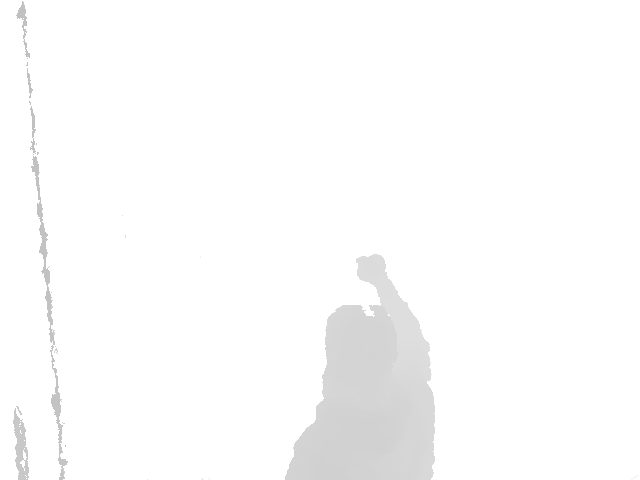hand: (355, 253, 388, 287)
head: (324, 304, 400, 416)
person: (284, 253, 438, 480)
